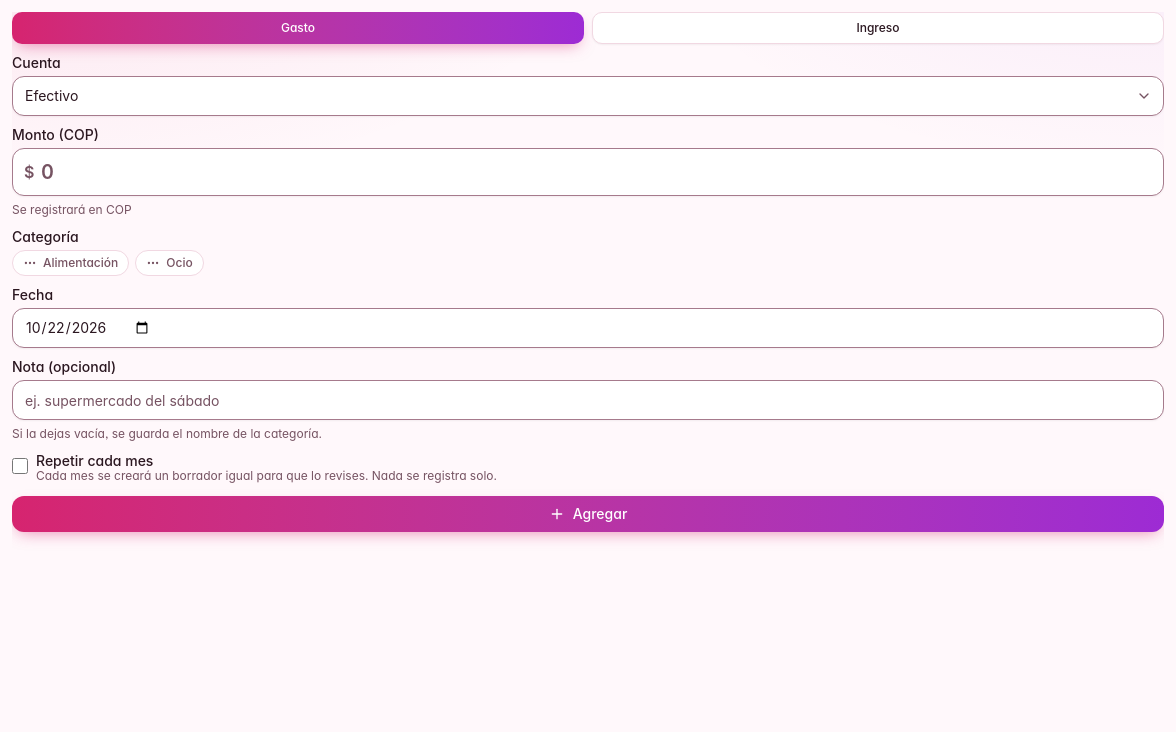
it: QuickTransactionForm › cambiar de cuenta entre monedas mantiene el entero guardado y re-lee la escala
Type "40" into the field labelled "Monto (COP)" at [588, 172], box [12, 148, 1164, 196]
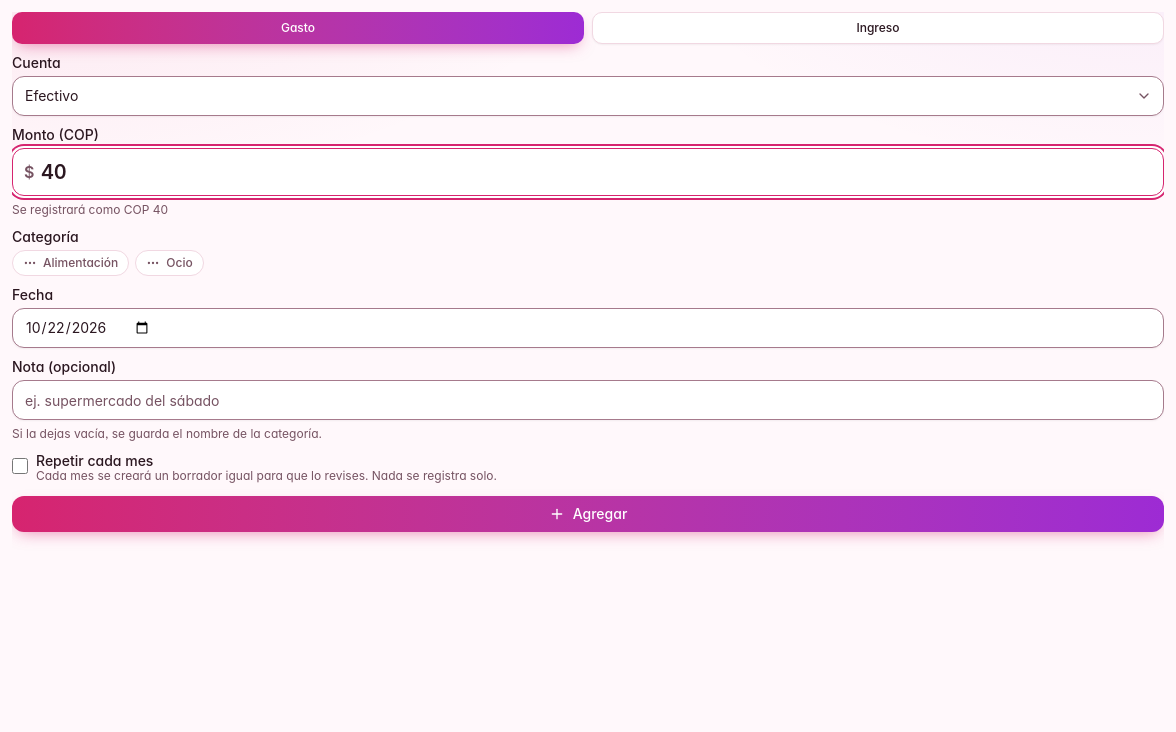
Select "Cuenta USD" in the dropdown named "Cuenta del movimiento" at [588, 96], box [12, 76, 1164, 116]
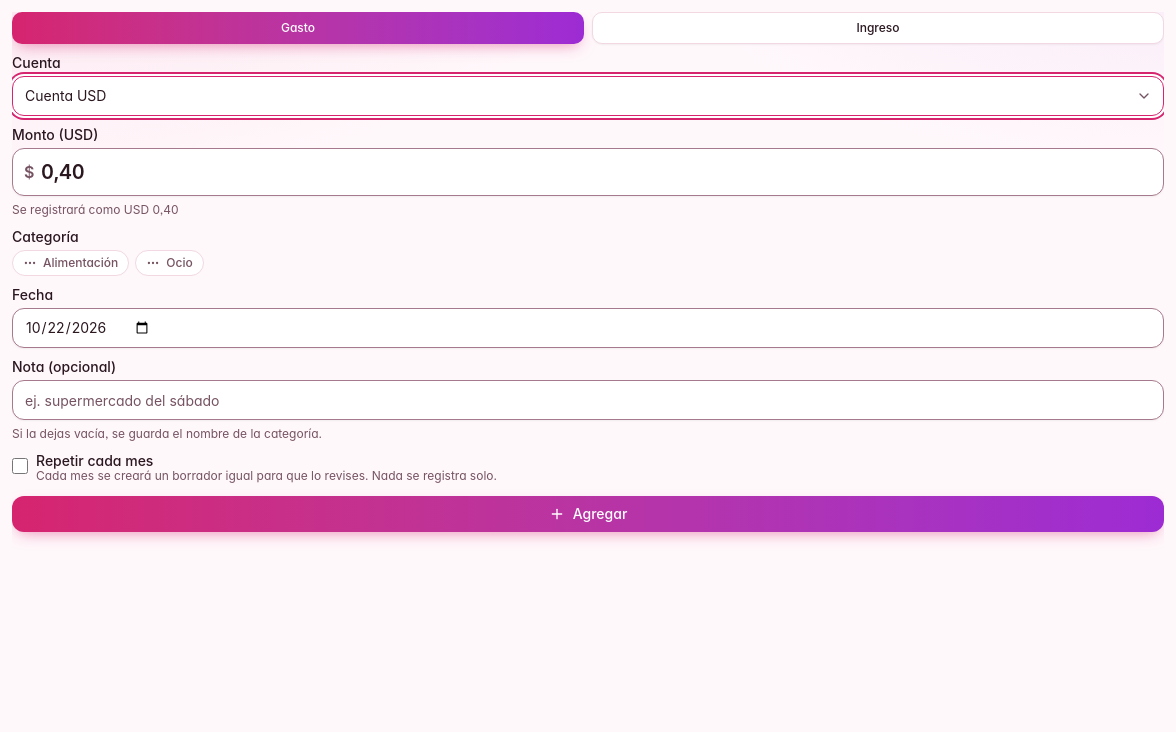
Now the field labelled "Monto (USD)" holds "0,40", box [12, 148, 1164, 196]
Now the text "Se registrará como USD 0,40" is shown, box [12, 202, 178, 217]
